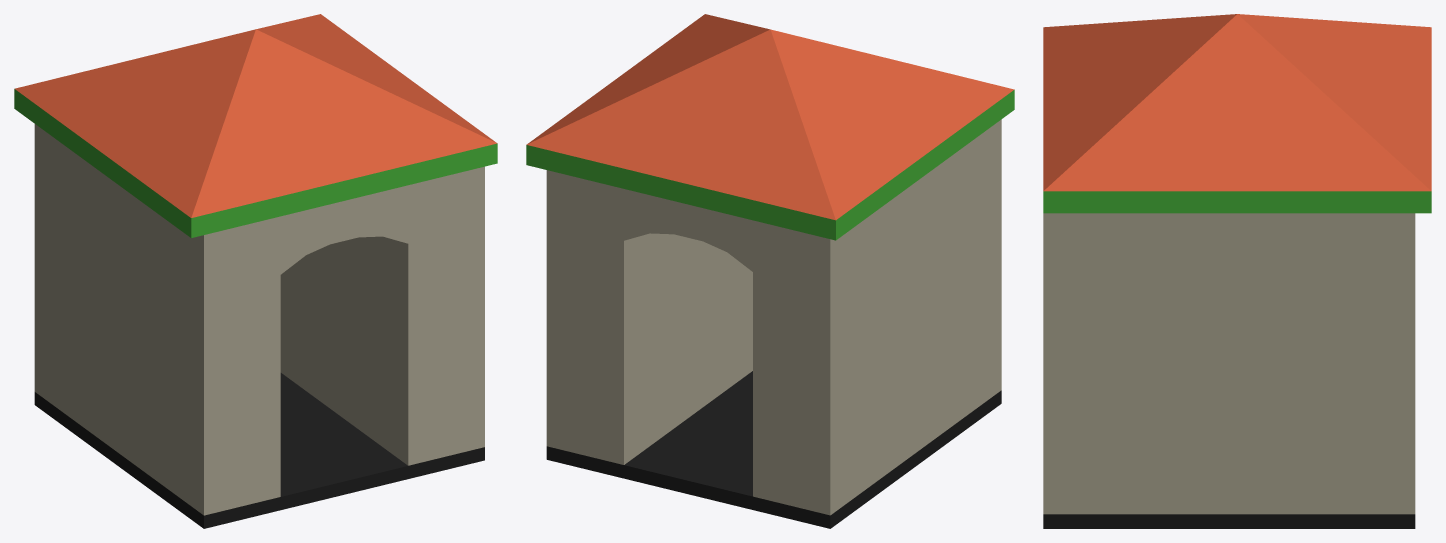
File: exit.glb
3 views of the same model, side by side, from view 1: azimuth 30°, elevation 25°; view 2: azimuth 150°, elevation 25°; view 3: azimuth 270°, elevation 25° (orthographic). The views are drawn at different scales.
Parts seen in each view (by area): view 1: right, pyramid, left, base (×2), cylinder; view 2: right, pyramid, left, base (×2), cylinder; view 3: left, pyramid, base (×2).
Boxes of the visible parts, x1,y1,x2,y2 form: right: [34, 124, 280, 515]; pyramid: [15, 14, 497, 217]; left: [280, 166, 484, 465]; base (×2): [14, 89, 497, 528]; cylinder: [280, 185, 408, 274]; right: [753, 119, 1001, 515]; pyramid: [526, 14, 1014, 220]; left: [546, 170, 752, 464]; base (×2): [526, 90, 1014, 528]; cylinder: [624, 189, 752, 271]; left: [1043, 213, 1415, 514]; pyramid: [1043, 14, 1431, 191]; base (×2): [1043, 191, 1431, 528].
Bounding box in the file's own units: 3 × 3.75 × 3.
Materials: 1 (1 with a texture image).
